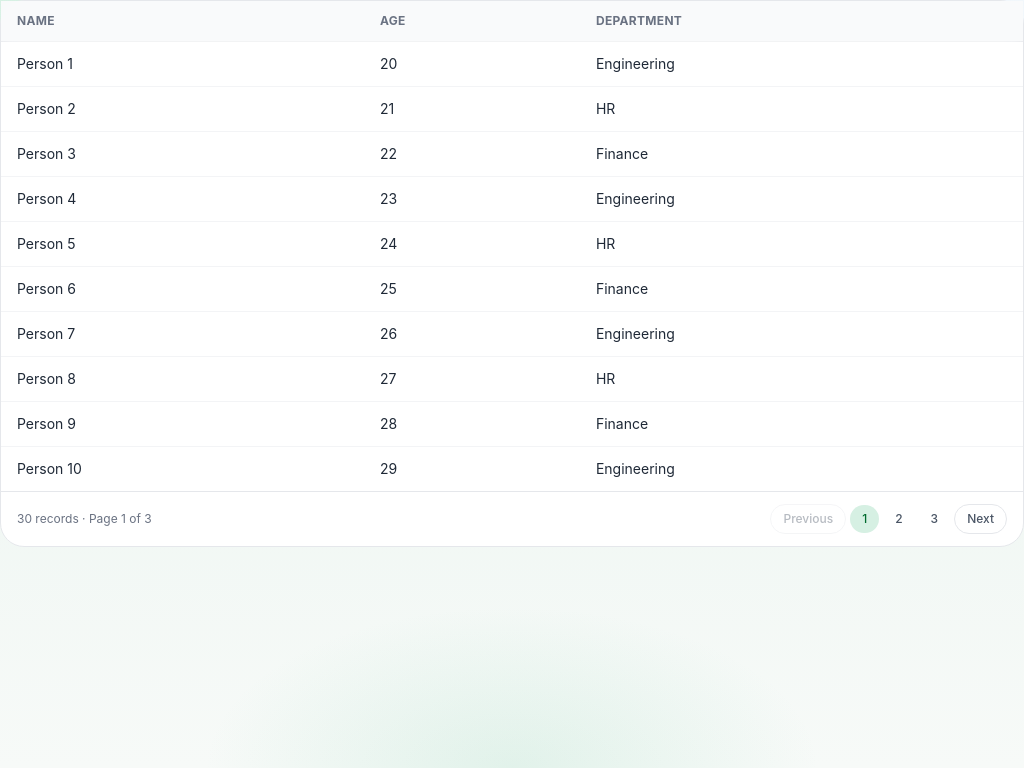
Test: DataTable › navigates to previous page
Click the button "Next" at x=981, y=519, box [954,504,1007,534]
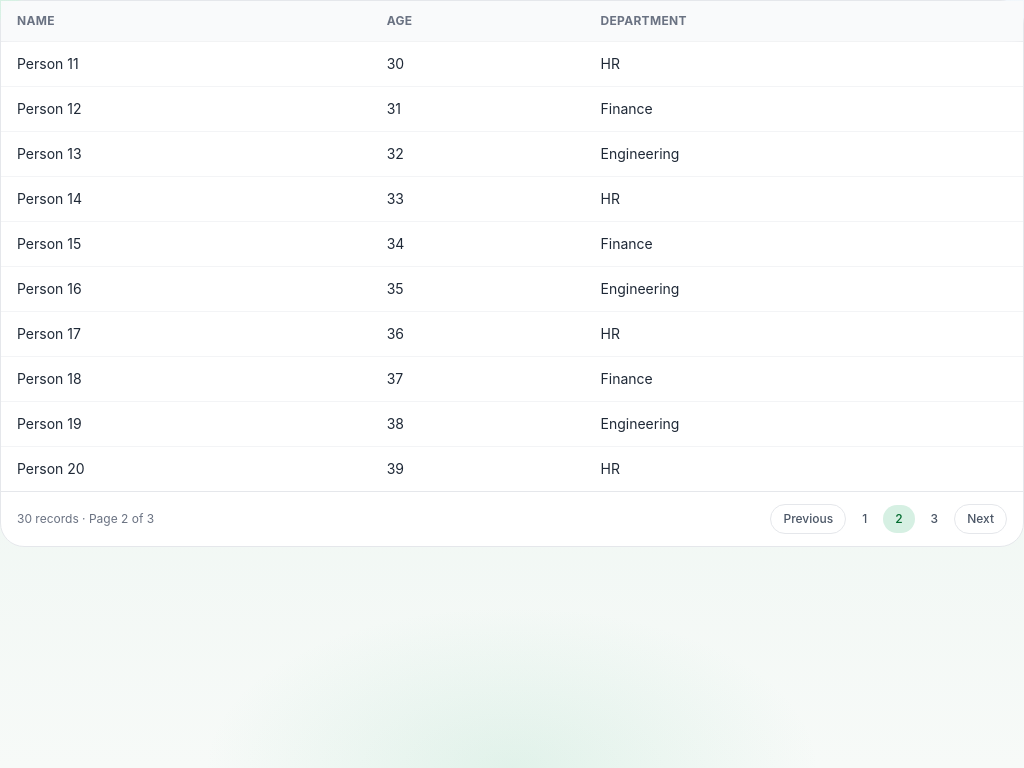
Click the button "Previous" at x=808, y=519, box [770,504,846,534]
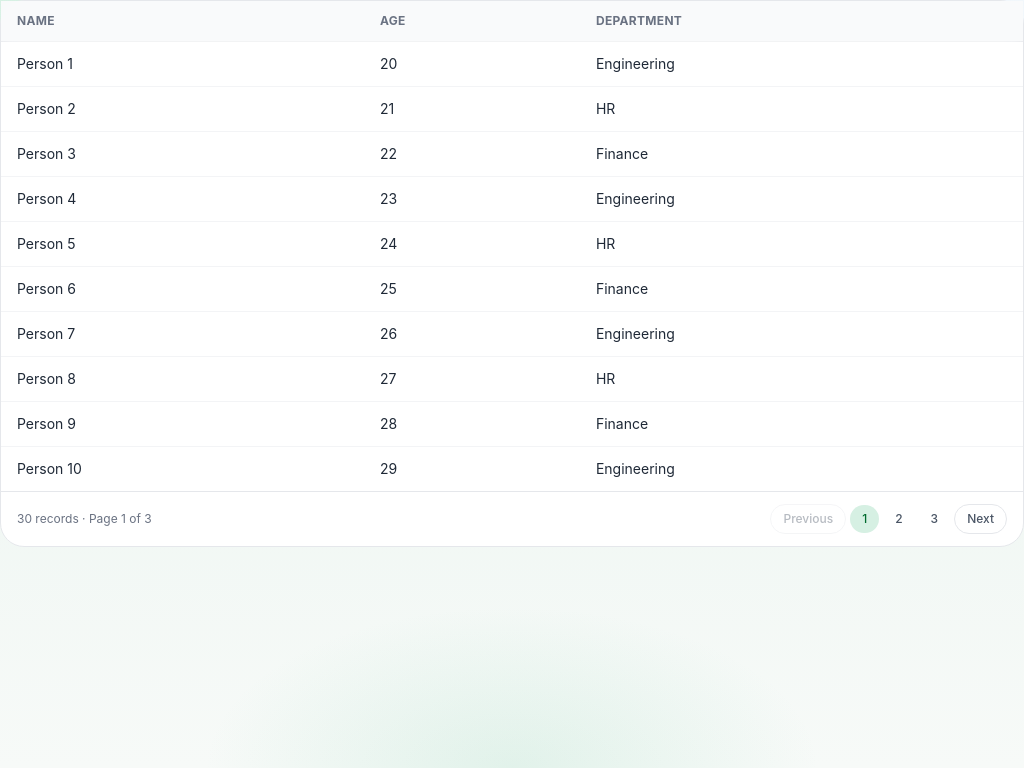
Expected: the text "30 records · Page 1 of 3" is shown, [17,511,152,527]
